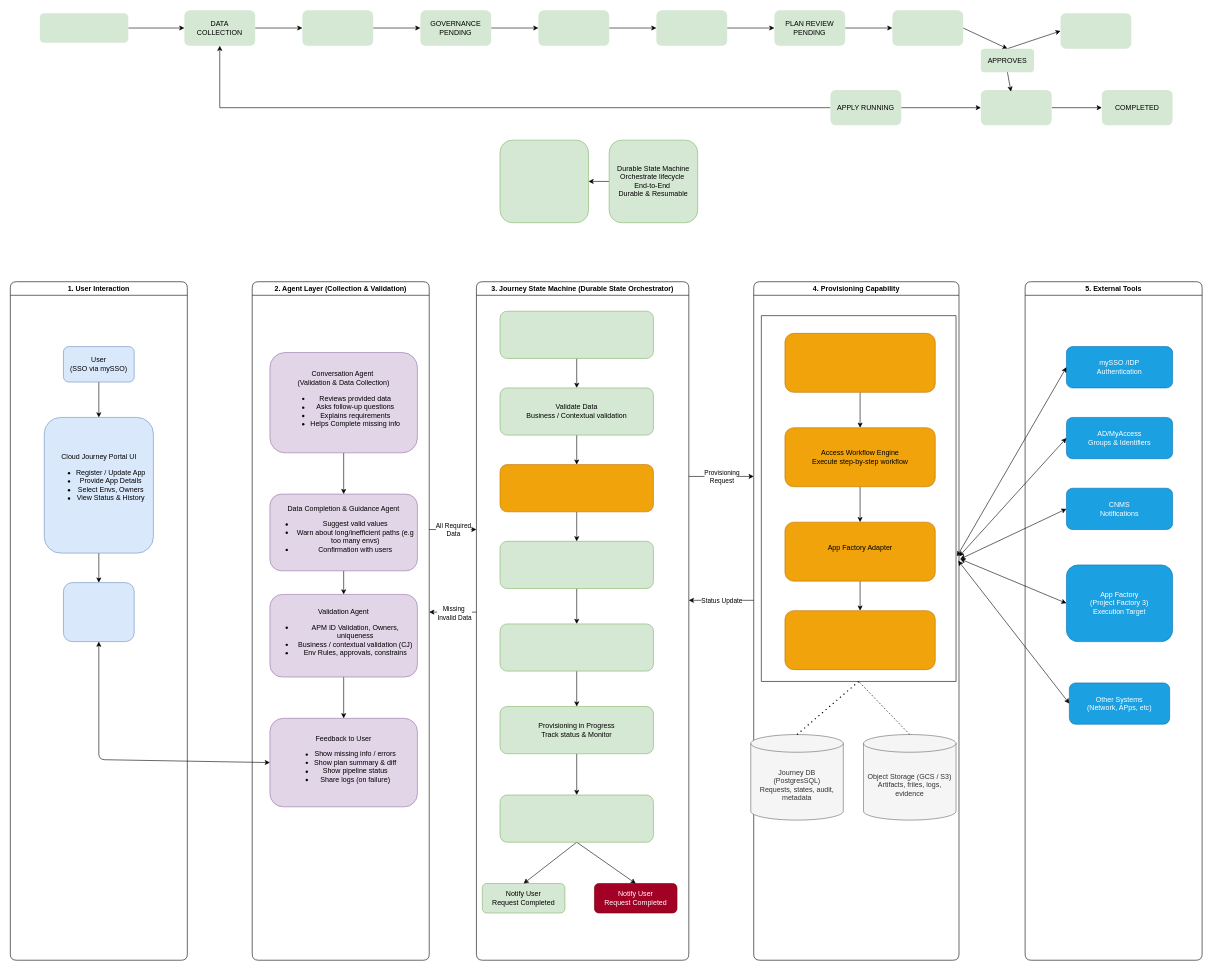
Some shapes in this 1212 by 971 pixel diagram are drawn without their labels. Each missing label, with the centre of its shape:
APPROVAL PENDING: (927,27)
Collect Data Capture app details via UI / Agent: (576,334)
Human Validation / AD Group Creation Wait for approval / AD group creation: (576,488)
Journey DB (Source of Truth): (544,181)
MAINFEST CREATED: (573,27)
OUTPUT COLLECTION: (1016,107)
PLAN RUNNING: (691,27)
Provisioning Triggered Send to privisioning capability: (576,647)
Provisionining Completed Success / Failure: (576,818)
REJECTED: (1095,30)
Requirement Collector Prepare paylod: (859,362)
START: (84,27)
Status Monitor Monitor execution & results: (859,640)
Submit Request Basic info captured (Pre-filled where possible): (98,612)
Validation Complete Provisioning Triggered: (576,565)
VALIDATION PENDING: (337,27)
